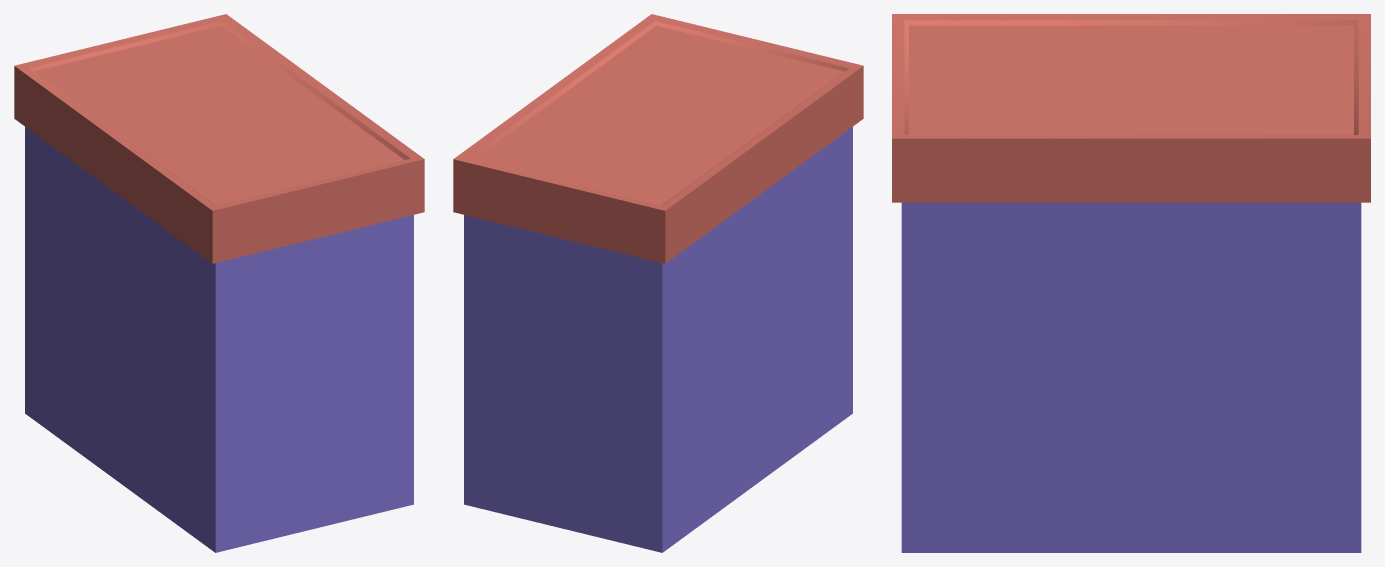
The model's file is Props_MetalCrate_Fabi_M.fbx.
The picture shows the model from 3 angles, left to right: view 1: azimuth 30°, elevation 25°; view 2: azimuth 150°, elevation 25°; view 3: azimuth 270°, elevation 25°; orthographic projection. The views are drawn at different scales.
Visible parts, largest first — view 1: MetalCrate; view 2: MetalCrate; view 3: MetalCrate.
Part boxes in pixels (x1,y1,x2,y2): MetalCrate: (14, 14, 424, 552); MetalCrate: (453, 14, 863, 552); MetalCrate: (892, 14, 1370, 552).
Size of the model in its own units: 32.11 by 50.15 by 52.03.
